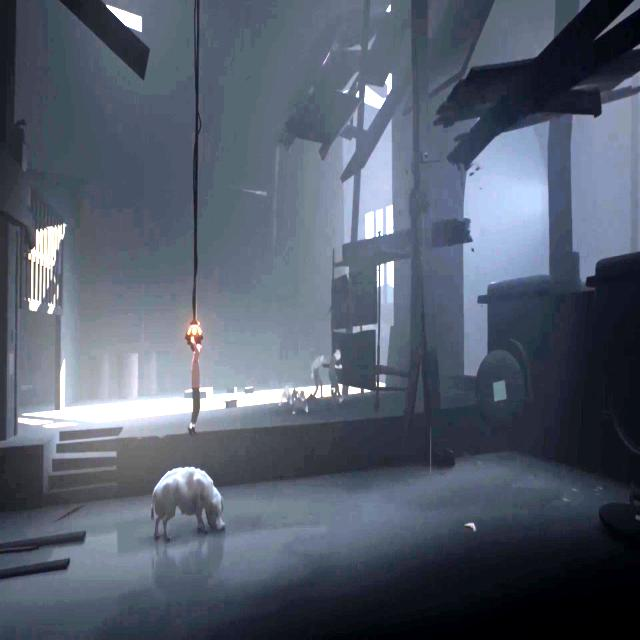boy: (188, 333, 201, 436)
zombie: (310, 352, 328, 402), (330, 349, 342, 403), (279, 384, 298, 406)
